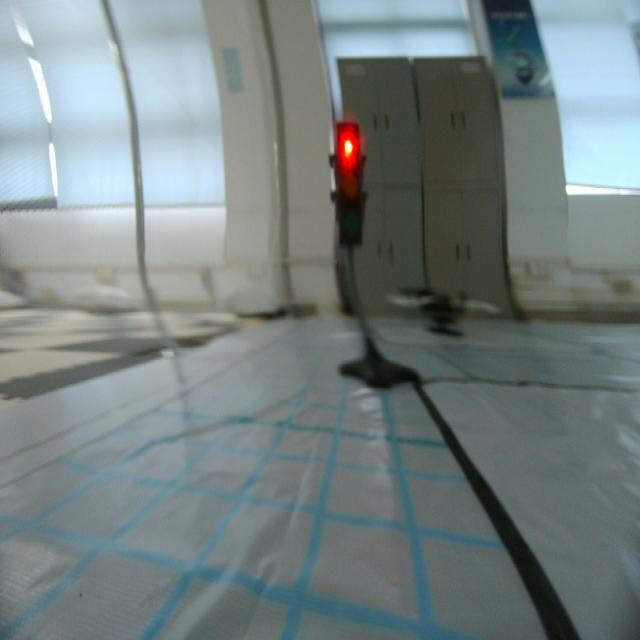red: (325, 115, 375, 256)
